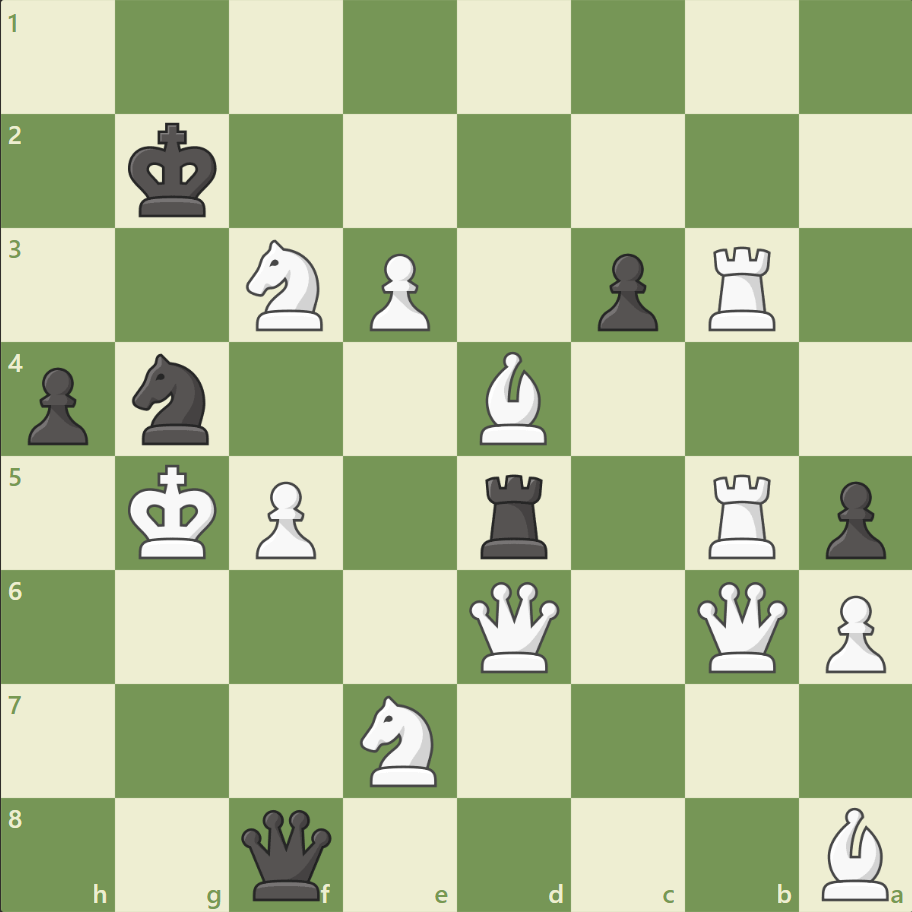B: (812, 801, 896, 904), (471, 347, 555, 449)
K: (124, 458, 224, 566)
N: (351, 688, 449, 791), (238, 234, 335, 337)
P: (247, 473, 322, 564), (815, 586, 889, 677), (361, 246, 435, 337)
Q: (691, 576, 790, 676), (464, 576, 563, 676)
R: (700, 466, 783, 563), (700, 239, 783, 336)
k: (124, 117, 224, 225)
n: (124, 348, 222, 450)
p: (20, 359, 95, 450), (815, 473, 889, 564), (588, 246, 662, 337)
q: (237, 804, 336, 903)
r: (473, 466, 556, 563)
